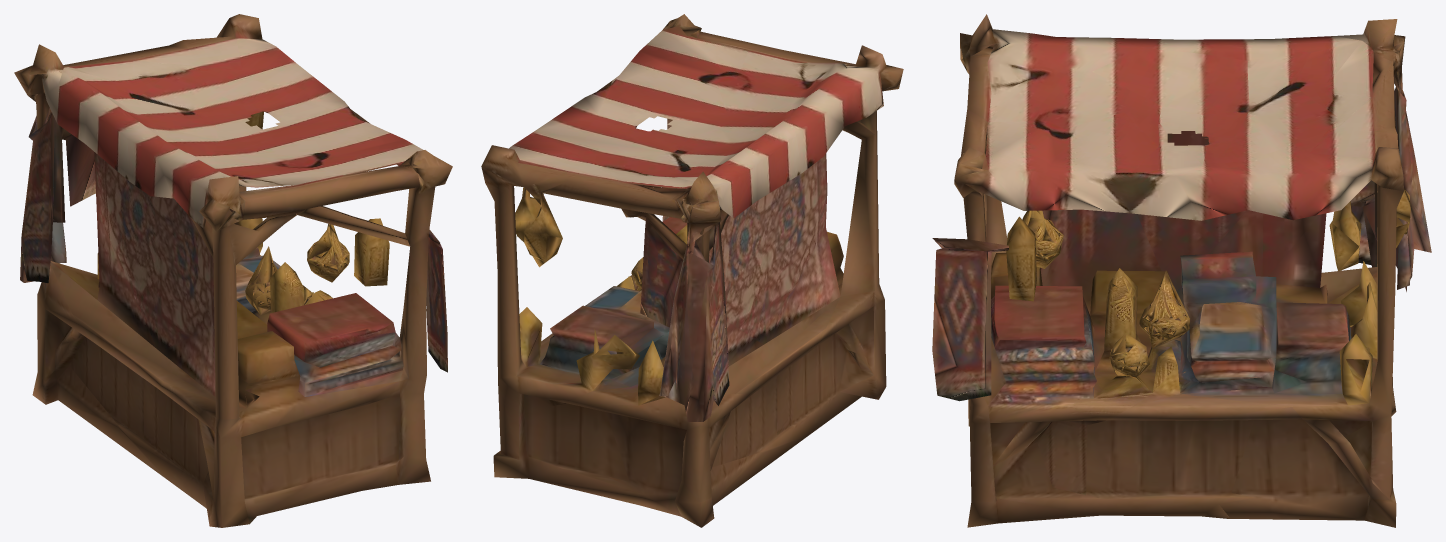
The model's file is market_stall.glb.
The picture shows the model from 3 angles, left to right: view 1: azimuth 30°, elevation 25°; view 2: azimuth 150°, elevation 25°; view 3: azimuth 270°, elevation 25°; orthographic projection. The views are drawn at different scales.
Visible parts, largest first — view 1: tripo_node_e746a4ab-2d76-48c3-97c0-ec2218c1f7b2; view 2: tripo_node_e746a4ab-2d76-48c3-97c0-ec2218c1f7b2; view 3: tripo_node_e746a4ab-2d76-48c3-97c0-ec2218c1f7b2.
Boxes of the visible parts, x1,y1,x2,y2 form: tripo_node_e746a4ab-2d76-48c3-97c0-ec2218c1f7b2: [14, 14, 452, 527]; tripo_node_e746a4ab-2d76-48c3-97c0-ec2218c1f7b2: [481, 14, 903, 527]; tripo_node_e746a4ab-2d76-48c3-97c0-ec2218c1f7b2: [932, 14, 1431, 527].
Size of the model in its own units: 0.6322 by 0.8779 by 1.
Materials: 1 (1 with a texture image).
